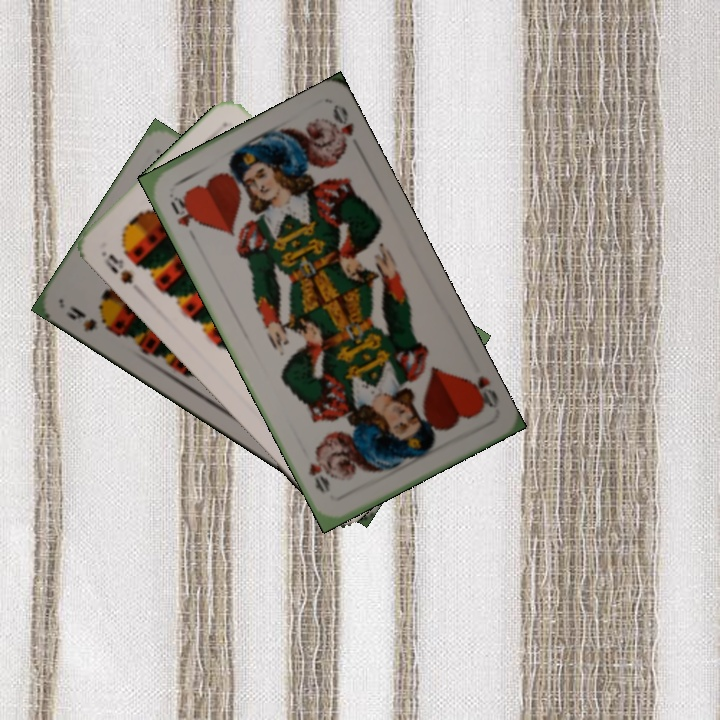HO: (461, 371, 502, 414), (166, 192, 199, 230)
S8: (100, 249, 136, 287)
S9: (62, 302, 116, 336)
